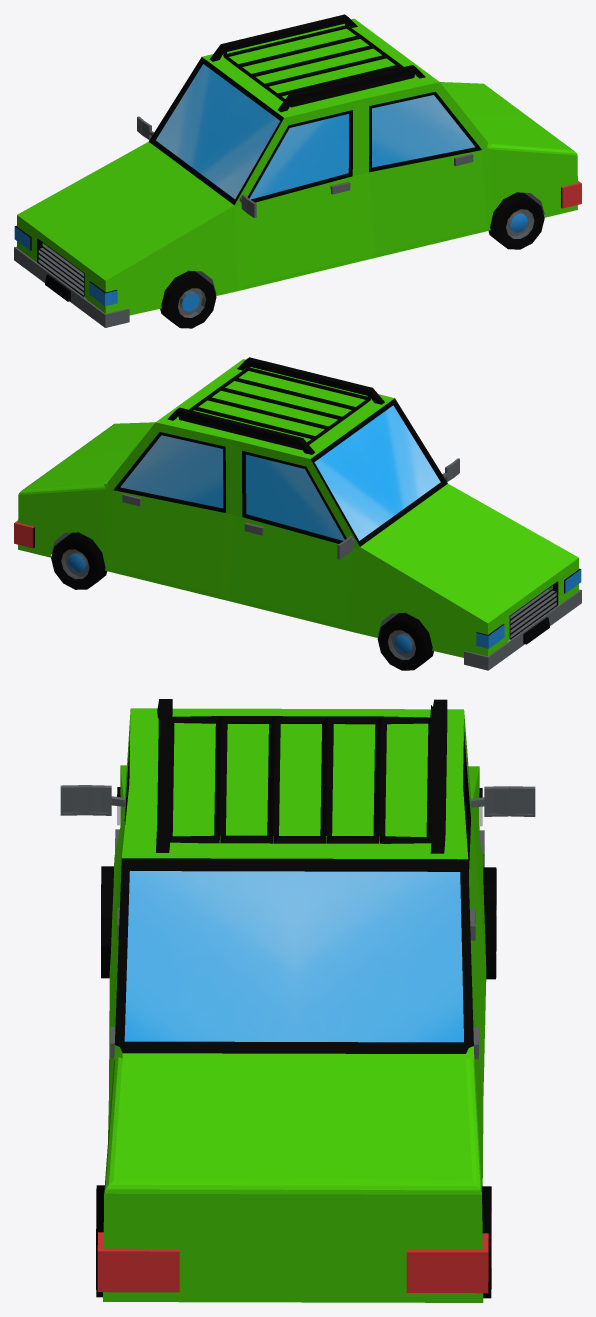
File: Car_Civilian.fbx
The picture shows the model from 3 angles, top to bottom: view 1: azimuth 30°, elevation 25°; view 2: azimuth 150°, elevation 25°; view 3: azimuth 270°, elevation 25°; orthographic projection. The views are drawn at different scales.
Parts seen in each view (by area): view 1: Car_Civilian2, Lugguage Holder.001, Wheel_F_L.004, Wheel_B_L.004; view 2: Car_Civilian2, Lugguage Holder.001, Wheel_F_R.004, Wheel_B_R.004; view 3: Car_Civilian2, Lugguage Holder.001, Wheel_F_R.004, Wheel_F_L.004, Wheel_B_R.004.
Boxes of the visible parts, box(x1,y1,x2,y2) form: Car_Civilian2: box(14, 18, 581, 327); Lugguage Holder.001: box(209, 14, 425, 112); Wheel_F_L.004: box(160, 270, 216, 328); Wheel_B_L.004: box(488, 192, 544, 249); Car_Civilian2: box(14, 359, 581, 670); Lugguage Holder.001: box(167, 357, 384, 454); Wheel_F_R.004: box(377, 613, 433, 670); Wheel_B_R.004: box(51, 532, 107, 589); Car_Civilian2: box(60, 708, 535, 1302); Lugguage Holder.001: box(156, 699, 447, 853); Wheel_F_R.004: box(483, 867, 496, 979); Wheel_F_L.004: box(101, 866, 113, 978); Wheel_B_R.004: box(481, 1186, 491, 1298).
Bounding box in the file's own units: 1146 × 444 × 495.
